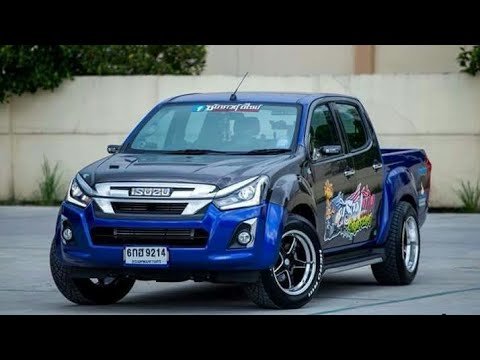pickup: (47, 90, 433, 313)
